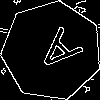A: (27, 26, 84, 82)
